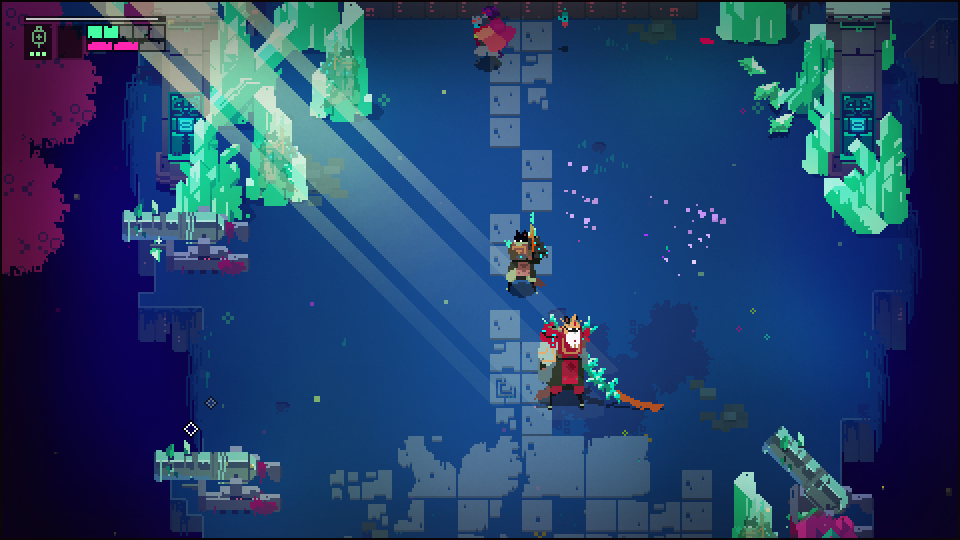hanged_man: (535, 310, 621, 403)
player: (468, 17, 501, 64)
